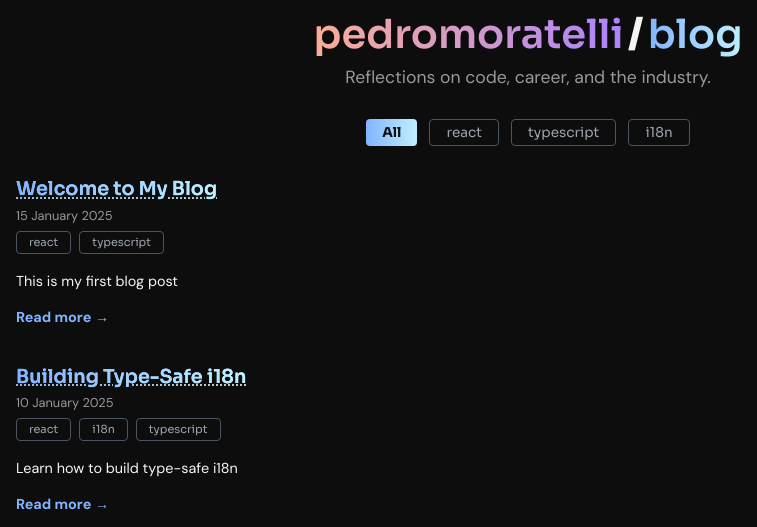
Test: BlogList › should filter posts by selected tag
Check: the link "Welcome to My Blog" is shown, box [16,176,217,201]
Check: the link "Building Type-Safe i18n" is shown, box [16,364,246,389]
// Click on 'i18n' tag filter
Click the 1st button "i18n": (659,133) [628,119,690,146]
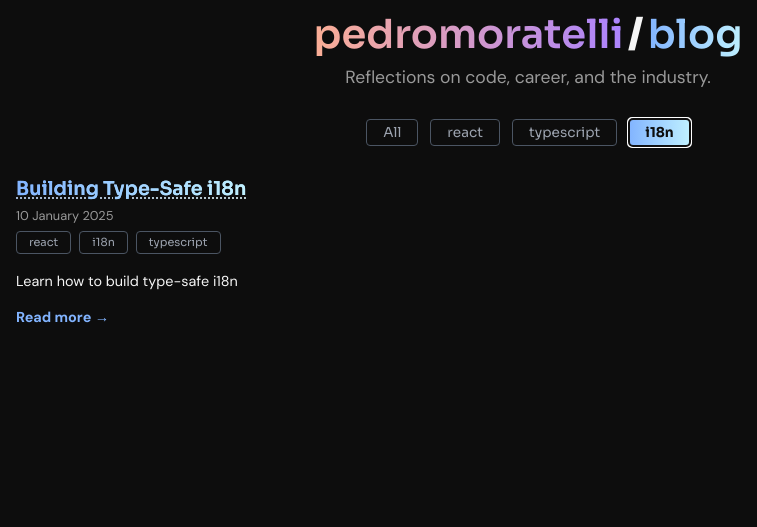
Check: the link "Building Type-Safe i18n" is shown, box [16,176,246,201]
Check: the link "Welcome to My Blog" is gone
